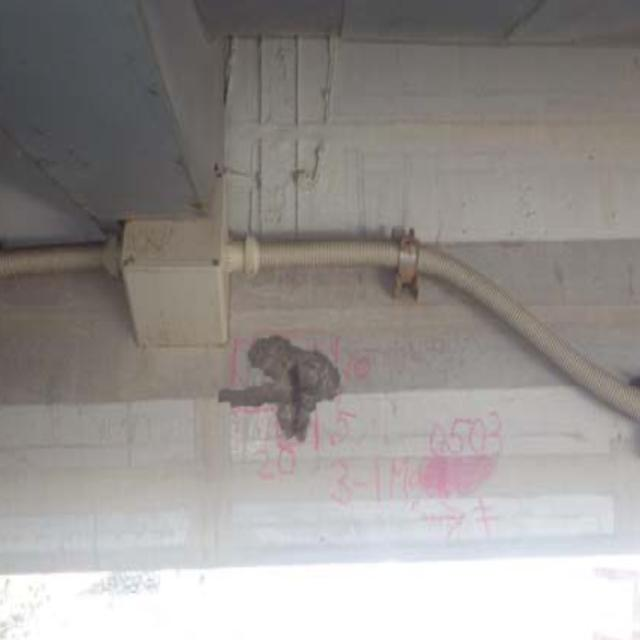spalling: (227, 330, 349, 444)
